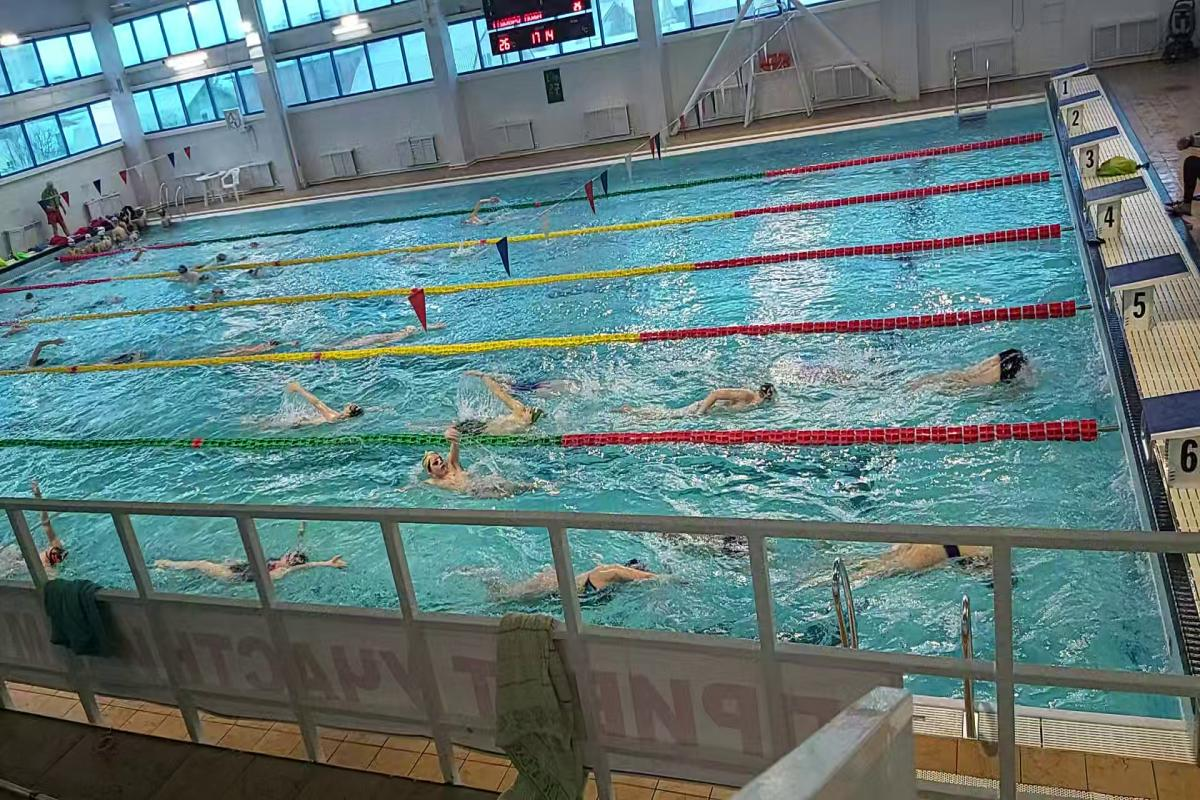swimmer: (489, 550, 673, 608), (161, 533, 356, 583), (413, 440, 539, 506), (925, 336, 1041, 407), (433, 365, 550, 435), (624, 377, 792, 416), (851, 544, 993, 588), (272, 377, 367, 427), (5, 518, 94, 570), (334, 321, 420, 346), (220, 333, 300, 353), (22, 335, 73, 364), (460, 198, 508, 226), (96, 338, 154, 361), (195, 280, 229, 300), (176, 264, 207, 282)
